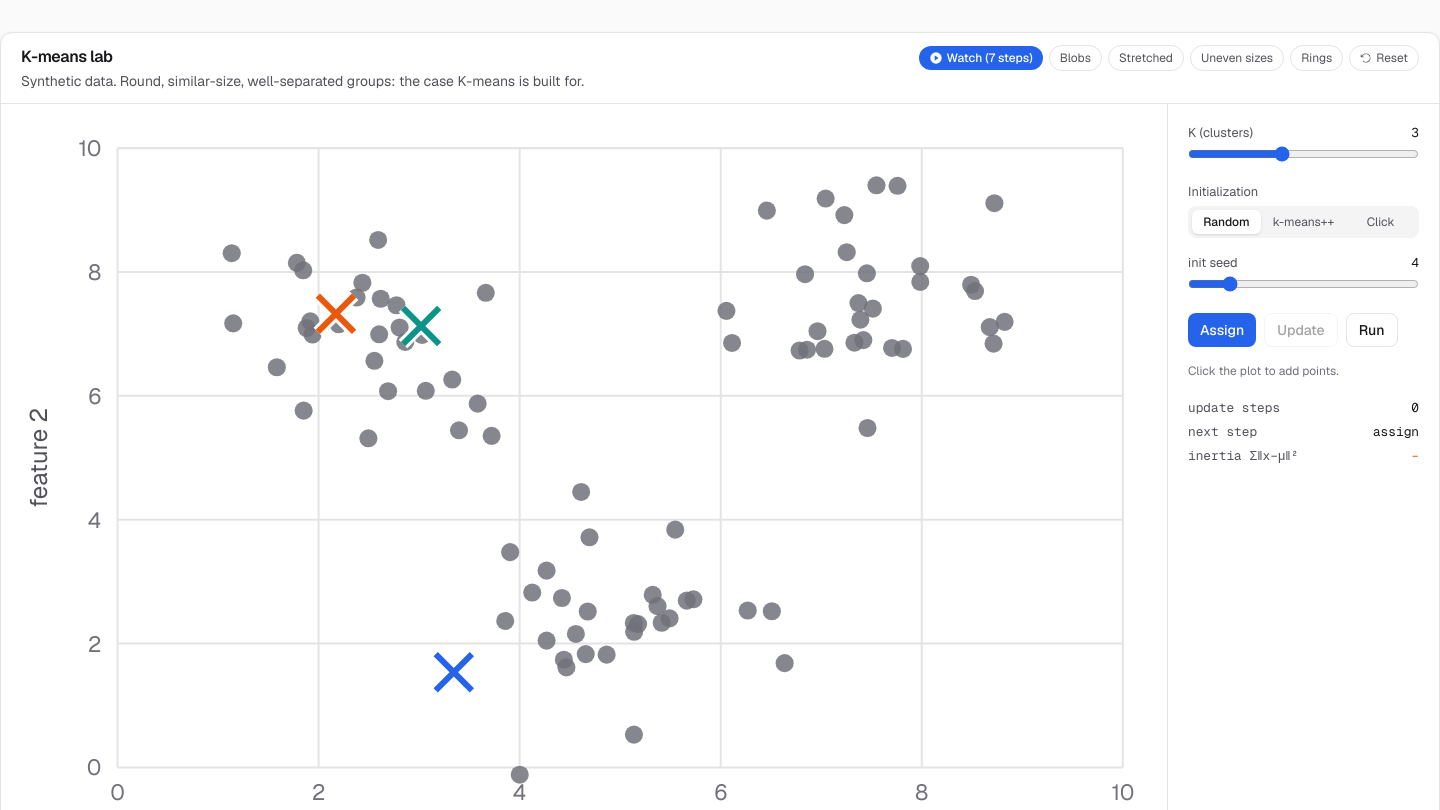
Test: k-means lab › alternates assignment and update steps
Check: the button "Update" is disabled, box [1264, 313, 1338, 347]
Click the button "Assign" at (1222, 330), box [1188, 313, 1256, 347]
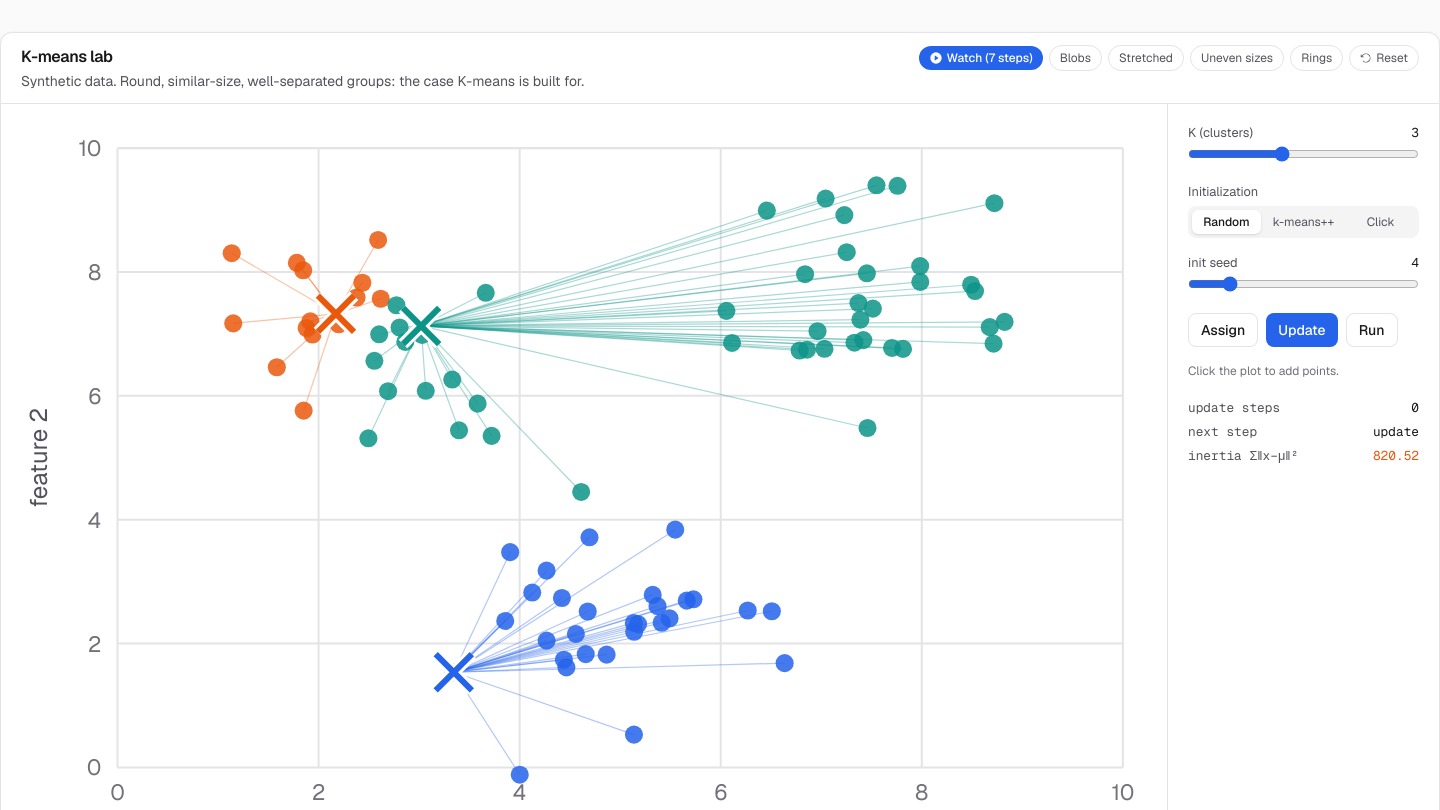
Check: the button "Update" is enabled
Click the button "Update" at (1302, 330), box [1266, 313, 1338, 347]
(page scrolled)
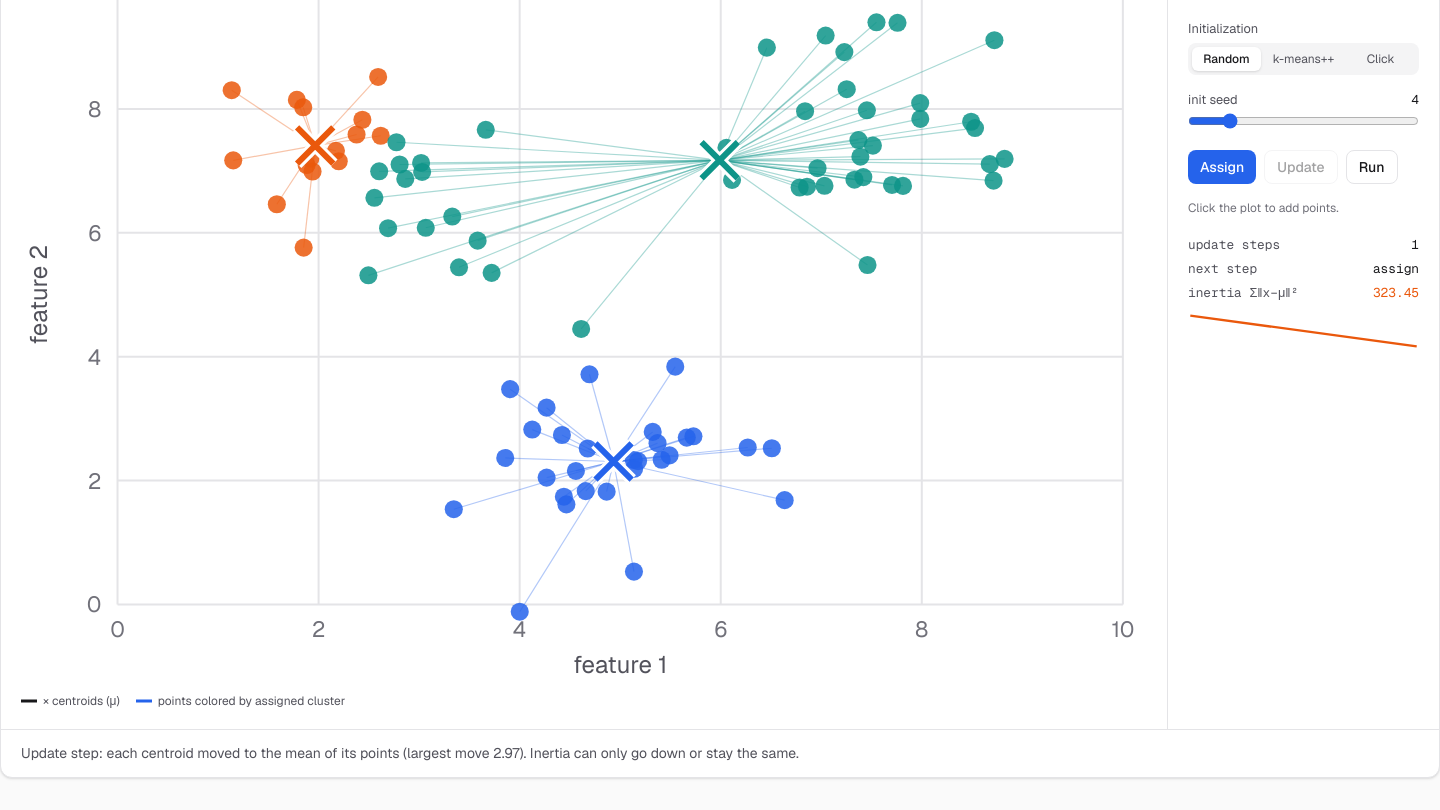
Check: the text "Update step: each centroid moved" is shown, box [21, 744, 799, 762]
